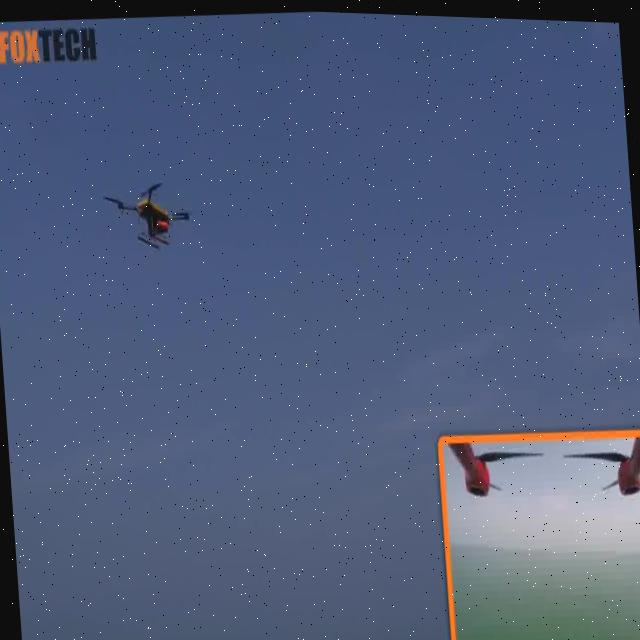drone: (110, 155, 192, 265)
